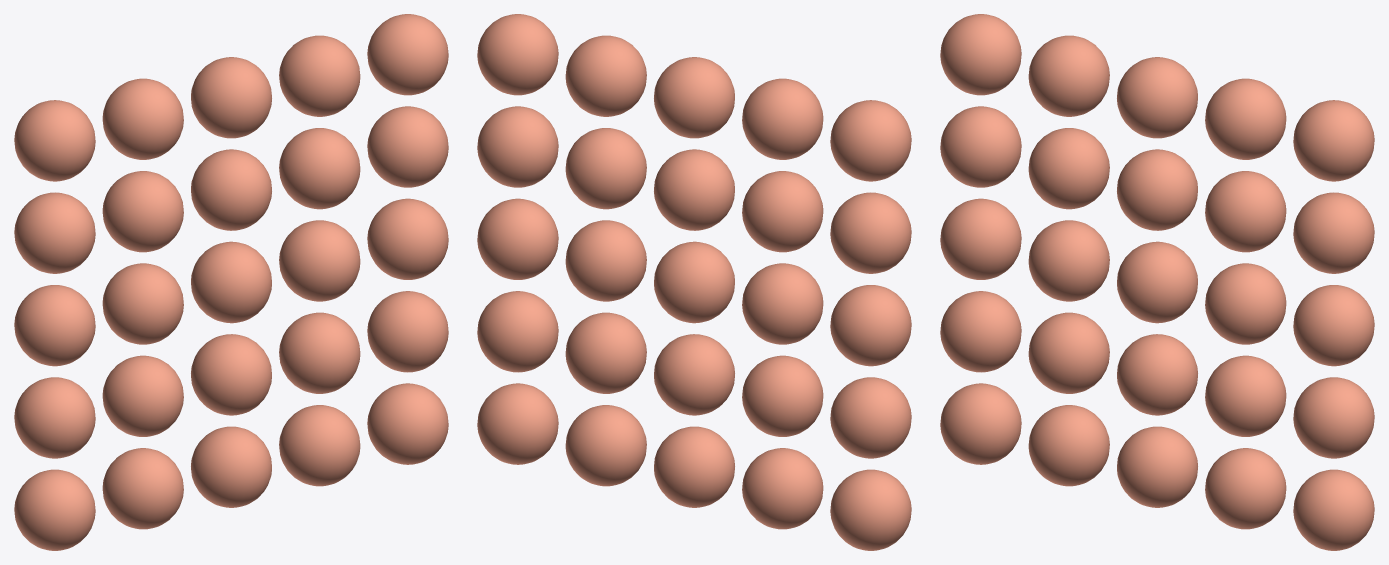
The picture shows the model from 3 angles, left to right: view 1: azimuth 30°, elevation 25°; view 2: azimuth 150°, elevation 25°; view 3: azimuth 330°, elevation 25°; orthographic projection.
Bounding box in the file's own units: 4.8 × 4.8 × 0.8.
